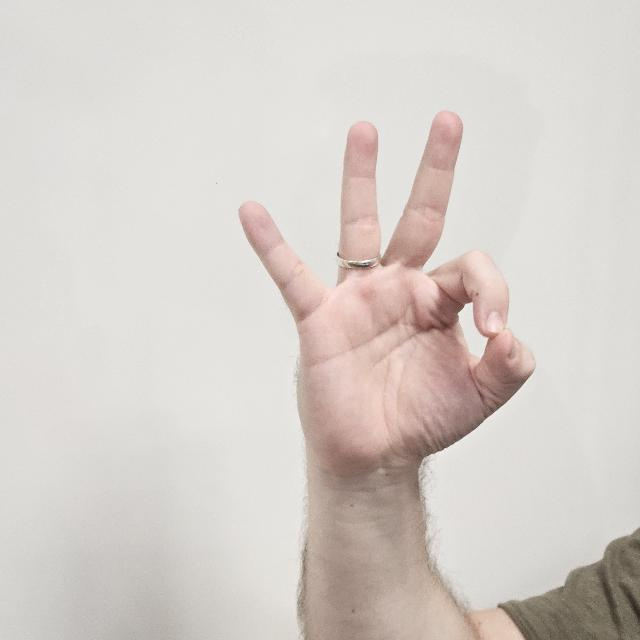Bolinha: (225, 103, 550, 473)
